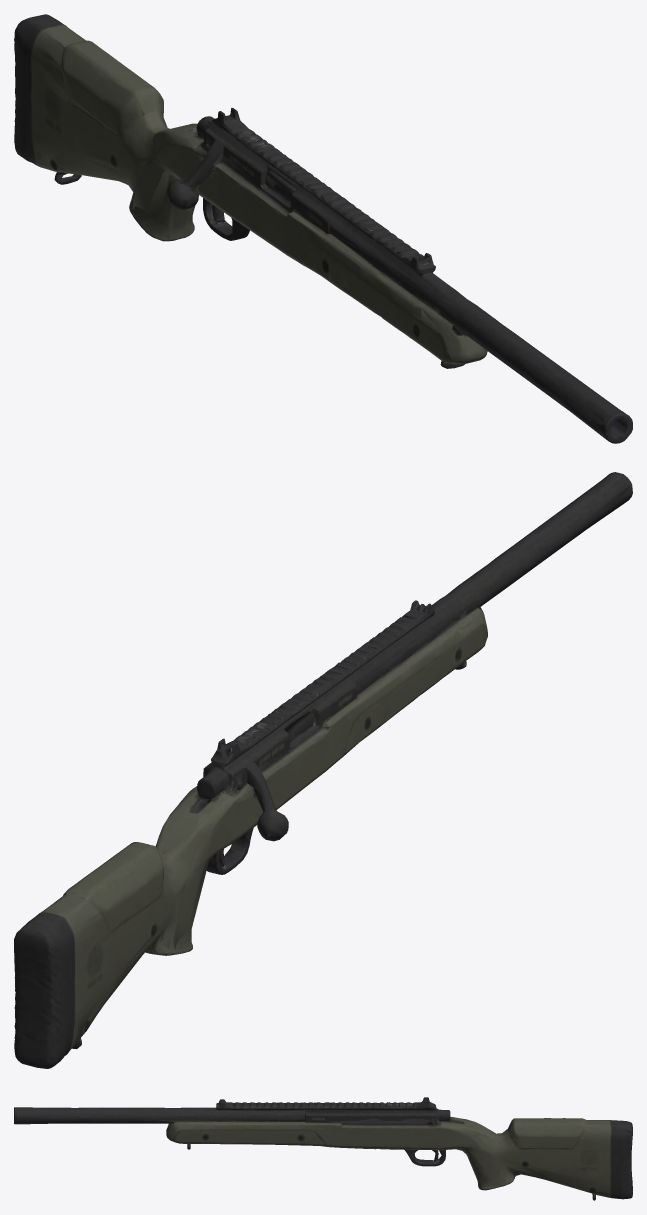
File: steyr_ssg69.glb
The picture shows the model from 3 angles, top to bottom: view 1: azimuth 30°, elevation 25°; view 2: azimuth 150°, elevation 25°; view 3: azimuth 270°, elevation 25°; orthographic projection. The views are drawn at different scales.
Visible parts, largest first — view 1: model, mesh_lod; view 2: model, mesh_lod; view 3: model, mesh_lod.
Part boxes in pixels (left/top/right/bottom): model: left=14, top=14, right=632, bottom=443; mesh_lod: left=14, top=14, right=628, bottom=438; model: left=14, top=472, right=632, bottom=1068; mesh_lod: left=14, top=473, right=631, bottom=1068; model: left=14, top=1097, right=632, bottom=1200; mesh_lod: left=14, top=1098, right=632, bottom=1199.
Bounding box in the file's own units: 0.0921 × 0.2028 × 1.14.
1 material, 1 textured.
